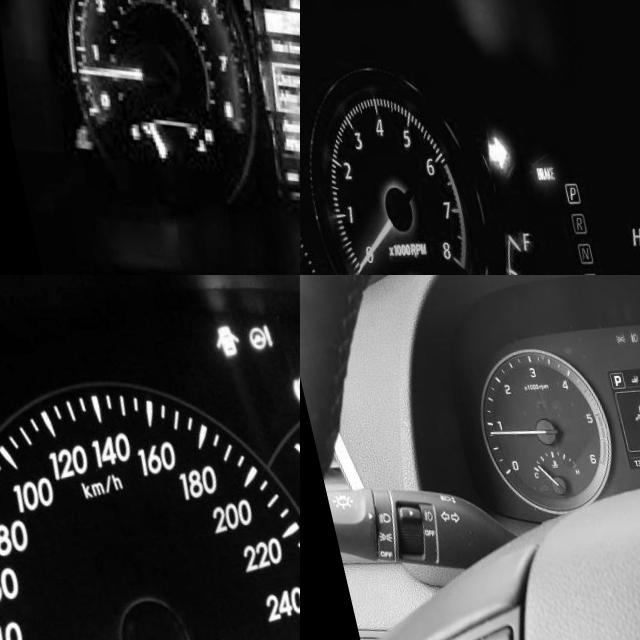Electronic Power Steering: (242, 333, 271, 360)
FrontFogLight: (621, 338, 630, 348)
SideLamp: (606, 338, 618, 349)
